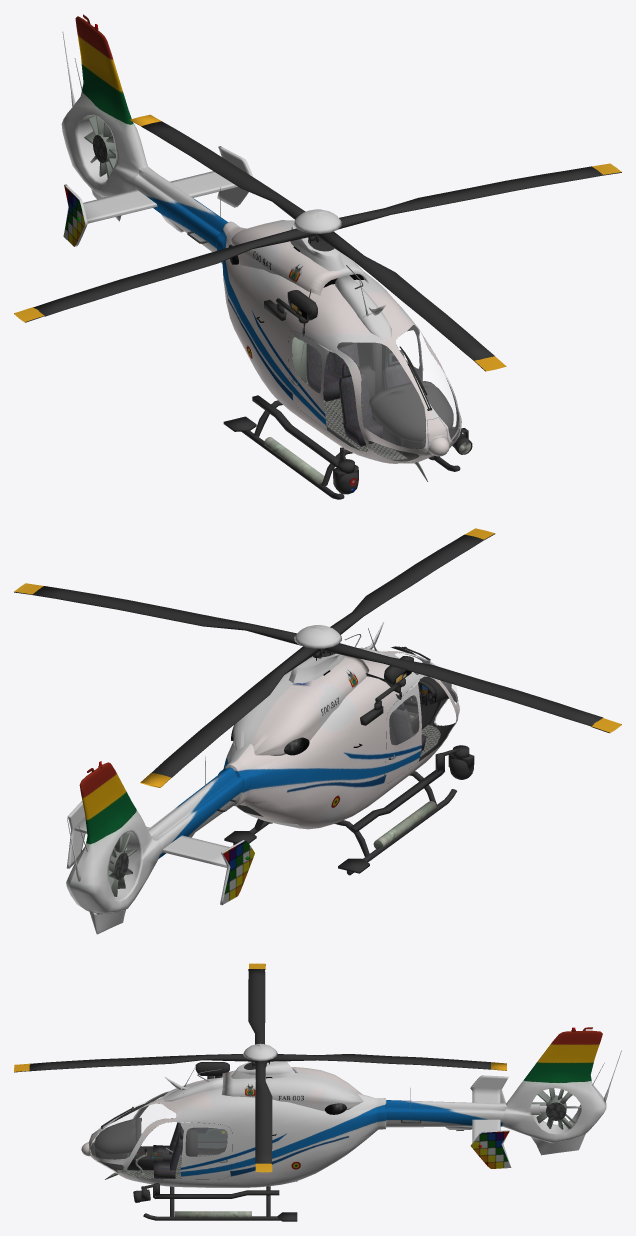
File: Elicopter.glb
The picture shows the model from 3 angles, top to bottom: view 1: azimuth 30°, elevation 25°; view 2: azimuth 150°, elevation 25°; view 3: azimuth 270°, elevation 25°; orthographic projection. The views are drawn at different scales.
Visible parts, largest first — view 1: chassis, static_rotor; view 2: chassis, static_rotor; view 3: chassis, static_rotor.
Part boxes in pixels (x1,y1,x2,y2): chassis: (61, 14, 472, 499); static_rotor: (14, 114, 621, 371); chassis: (66, 622, 474, 934); static_rotor: (14, 528, 621, 787); chassis: (81, 1027, 621, 1221); static_rotor: (14, 963, 506, 1172).
Size of the model in its own units: 8.42 by 3.28 by 10.41.
5 materials, 4 textured.
